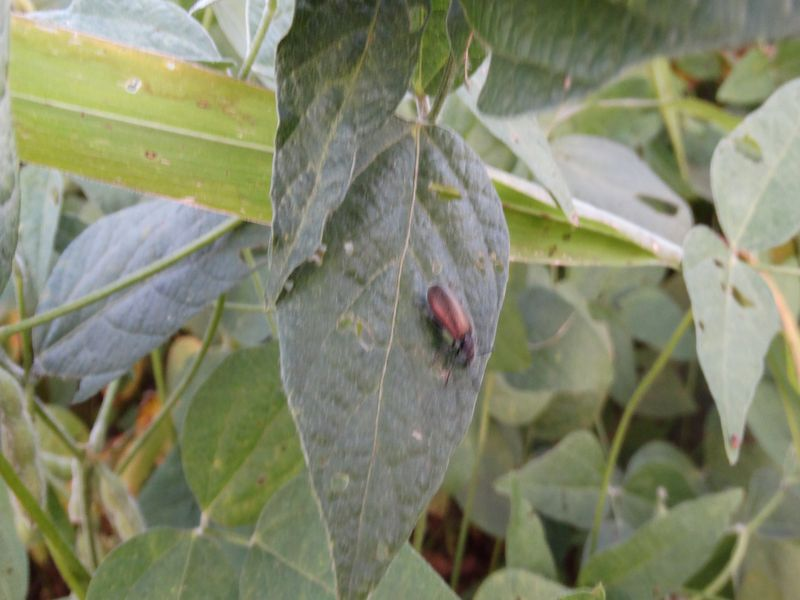Lagria_villosa: (405, 279, 490, 378)
